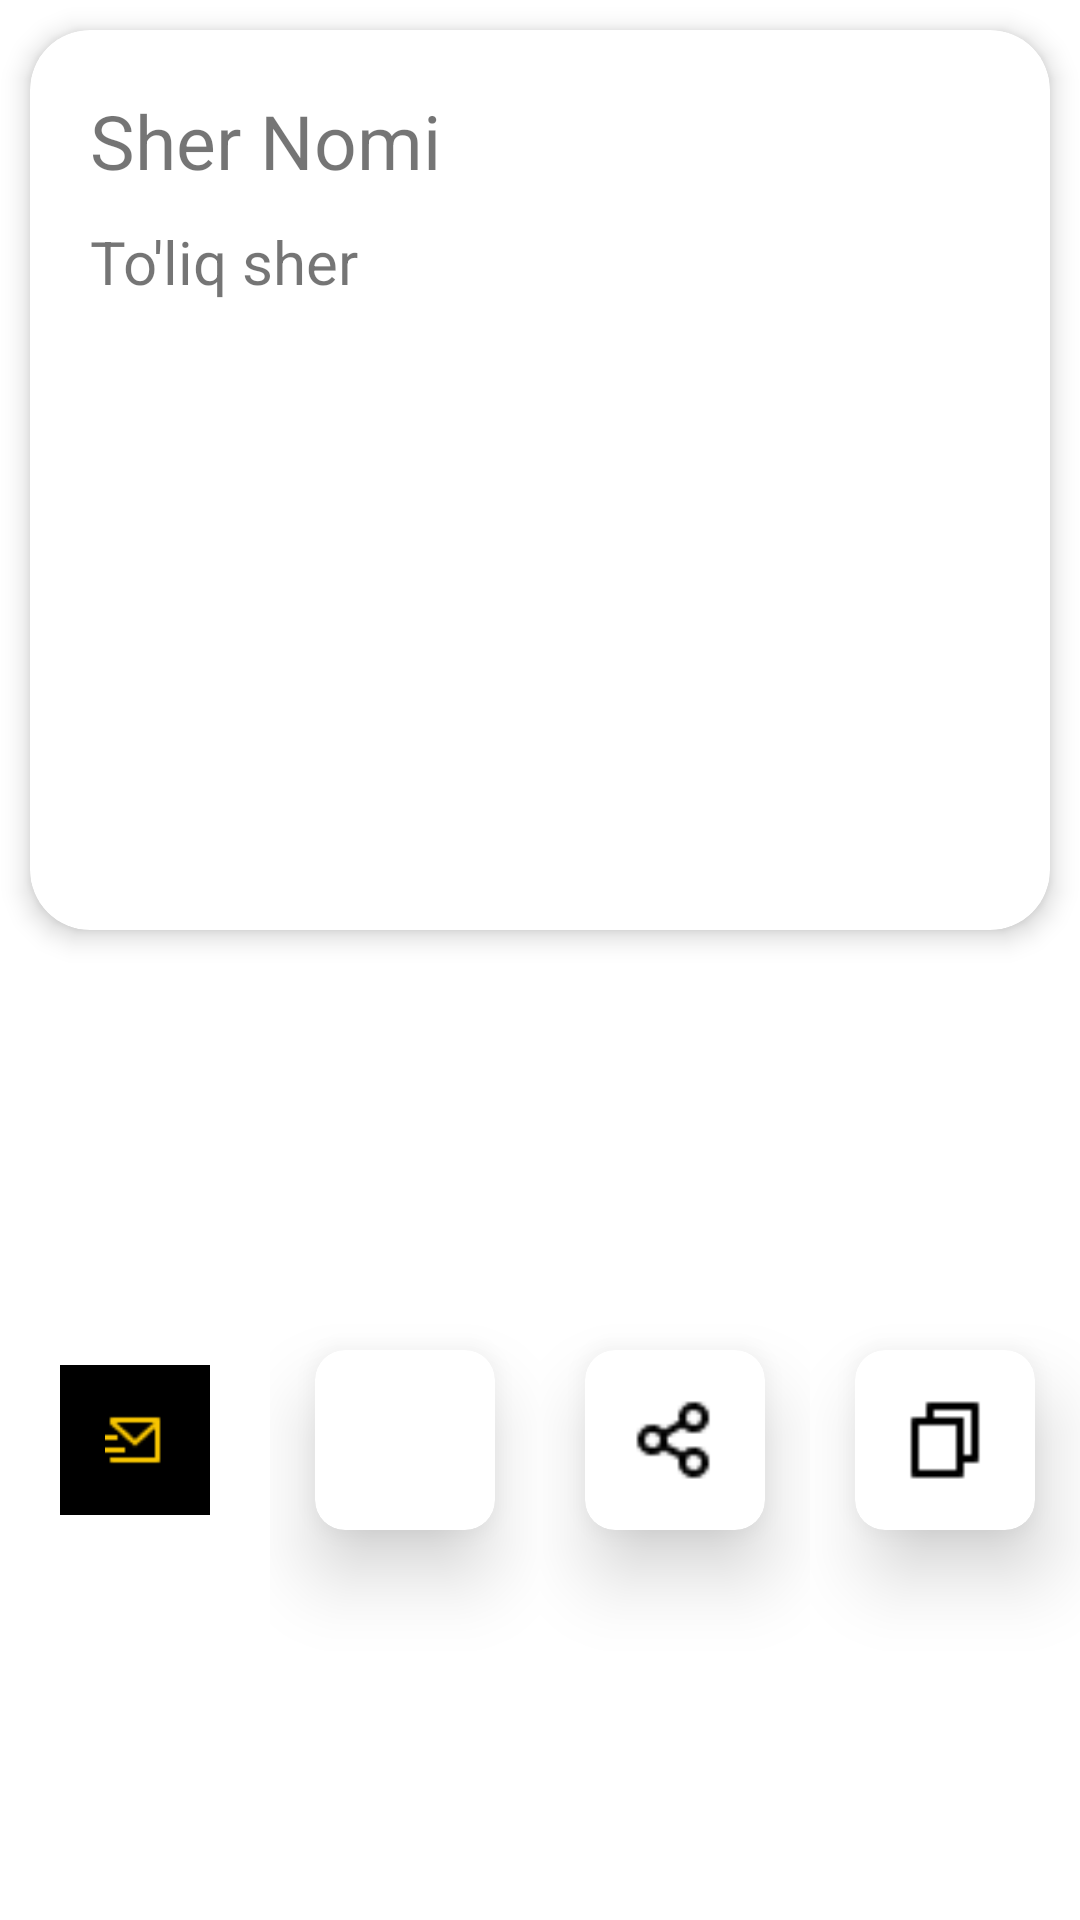

Named icons in this screenshot (1080w x 1920h) and their centers, [x,y]:
nusha olish: [945,1440]
ulashish: [675,1440]
